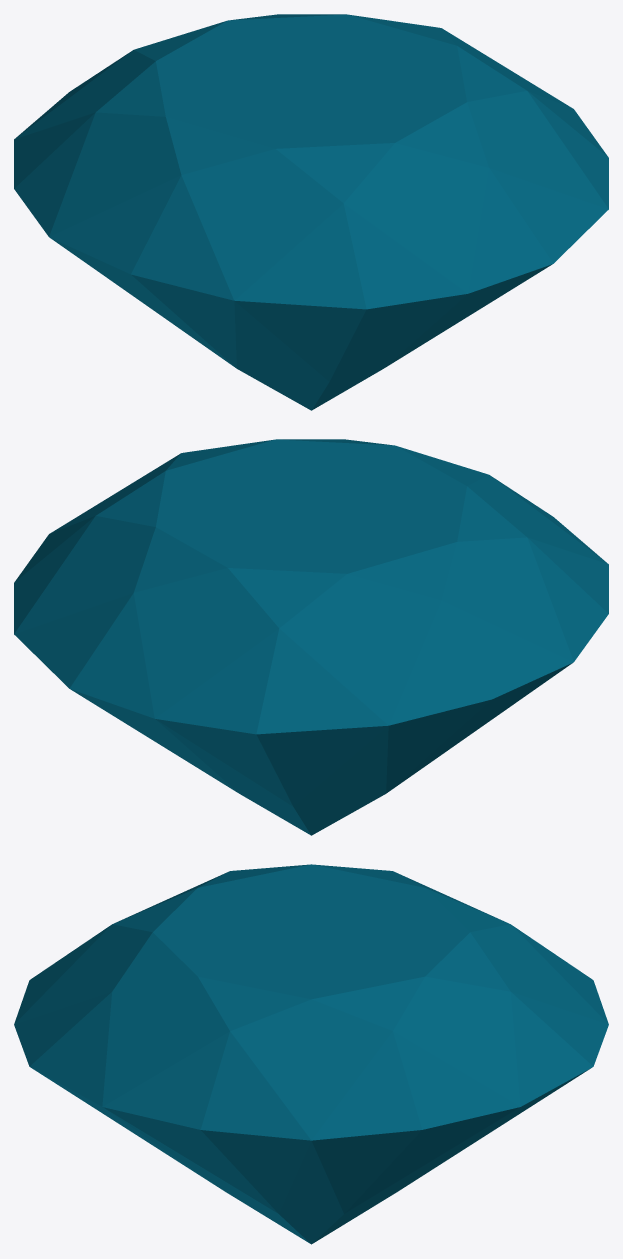
File: Topaz.fbx
3 views of the same model, one above another, from view 1: azimuth 30°, elevation 25°; view 2: azimuth 150°, elevation 25°; view 3: azimuth 270°, elevation 25° (orthographic). The views are drawn at different scales.
Parts seen in each view (by area): view 1: Plane; view 2: Plane; view 3: Plane.
Boxes of the visible parts, box(x1,y1,x2,y2) form: Plane: box(14, 14, 608, 410); Plane: box(14, 439, 608, 835); Plane: box(14, 864, 608, 1244).
Bounding box in the file's own units: 516 × 309 × 534.
